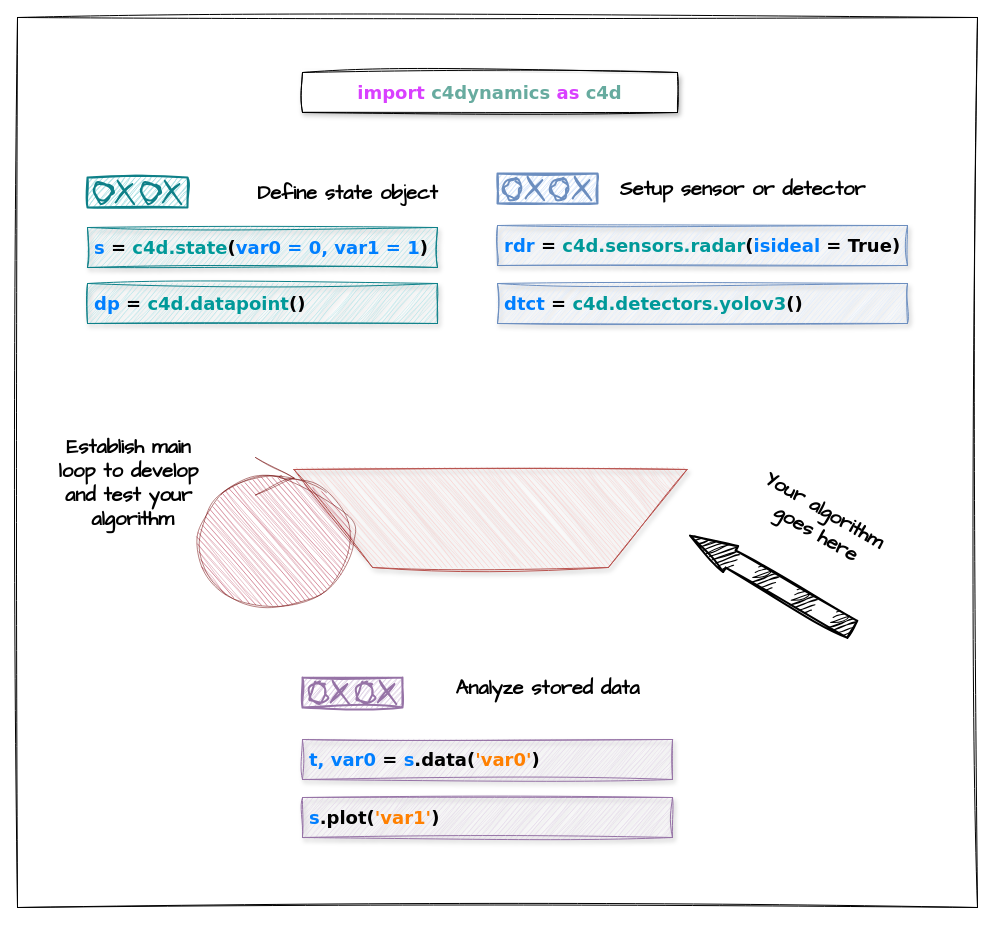
The diagram is 995 pixels wide and 925 high, and some of its shapes have lost their labels. The shapes that lost their labels are listed below. From the top down, each one's centre as x and y in pixels, then its label:
At [274,532]: "Main Loop".
At [491,519]: "for t in np . arange (0, 1 , 1e-3 ): s.X = np.random . rand (2) s . store ( t )".
